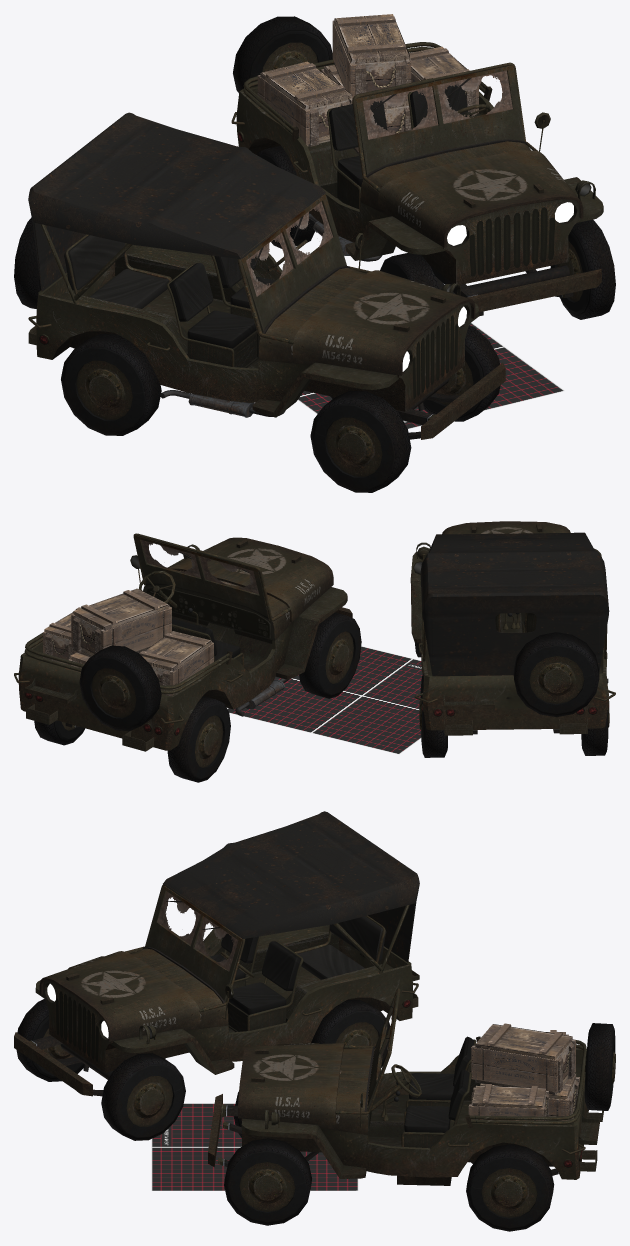
3 views of the same model, one above another, from view 1: azimuth 30°, elevation 25°; view 2: azimuth 150°, elevation 25°; view 3: azimuth 270°, elevation 25° (orthographic). The views are drawn at different scales.
Visible parts, largest first — view 1: Box001, floor_grid; view 2: Box001, floor_grid; view 3: Box001, floor_grid.
Part boxes in pixels (x1=…): Box001: x1=14, y1=14, x2=615, y2=492; floor_grid: x1=298, y1=322, x2=564, y2=429; Box001: x1=14, y1=521, x2=615, y2=782; floor_grid: x1=227, y1=646, x2=422, y2=754; Box001: x1=14, y1=811, x2=615, y2=1231; floor_grid: x1=151, y1=1103, x2=358, y2=1190.
Size of the model in its own units: 538 by 213 by 581.
5 materials, 5 textured.
